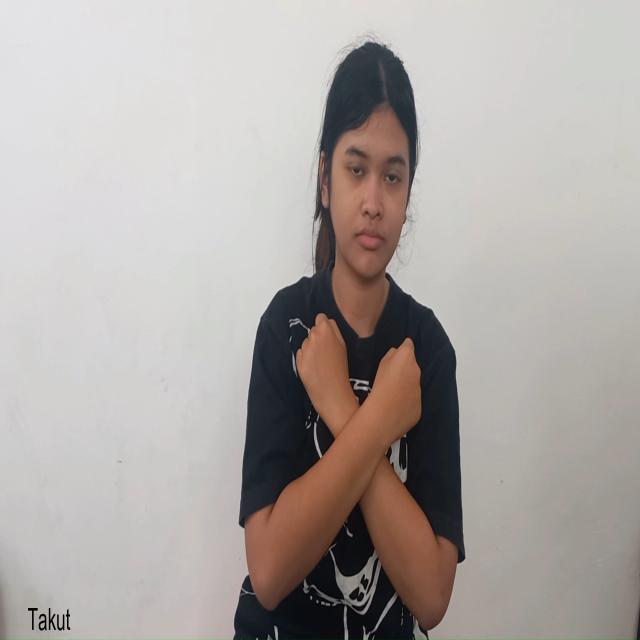Takut -BISINDO-: (290, 295, 432, 571)
